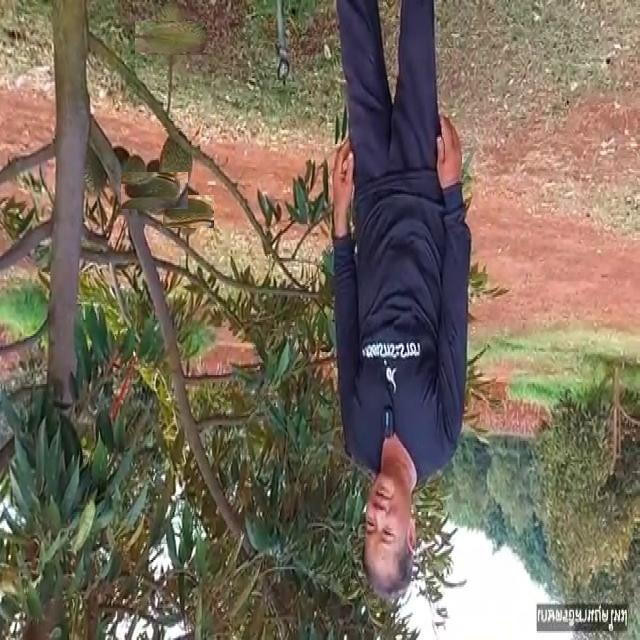durian: (145, 12, 198, 65), (128, 164, 181, 216), (78, 118, 111, 200), (160, 128, 198, 192), (117, 148, 148, 224), (167, 190, 210, 232)
